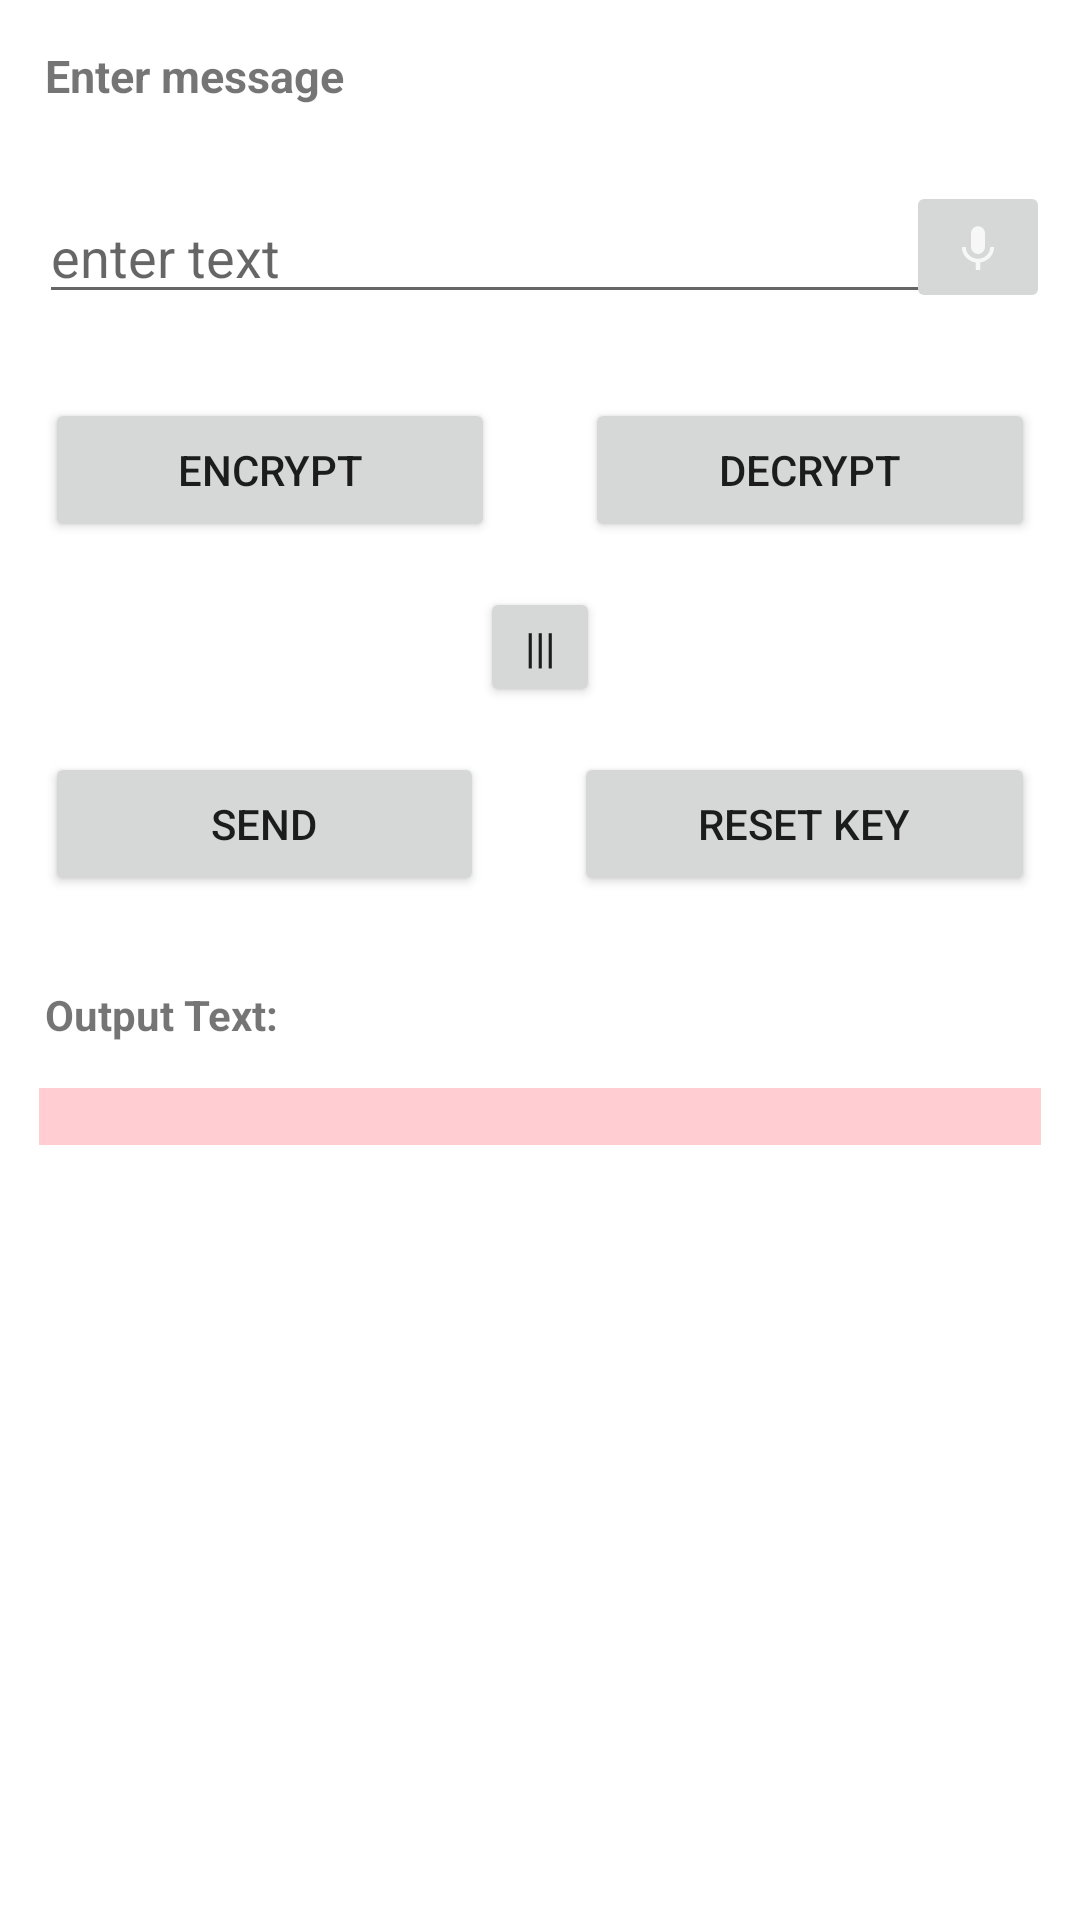

Where to tap for icons on this 1080x1920 app screen, as [x,y]:
pass voice: [972,247]
